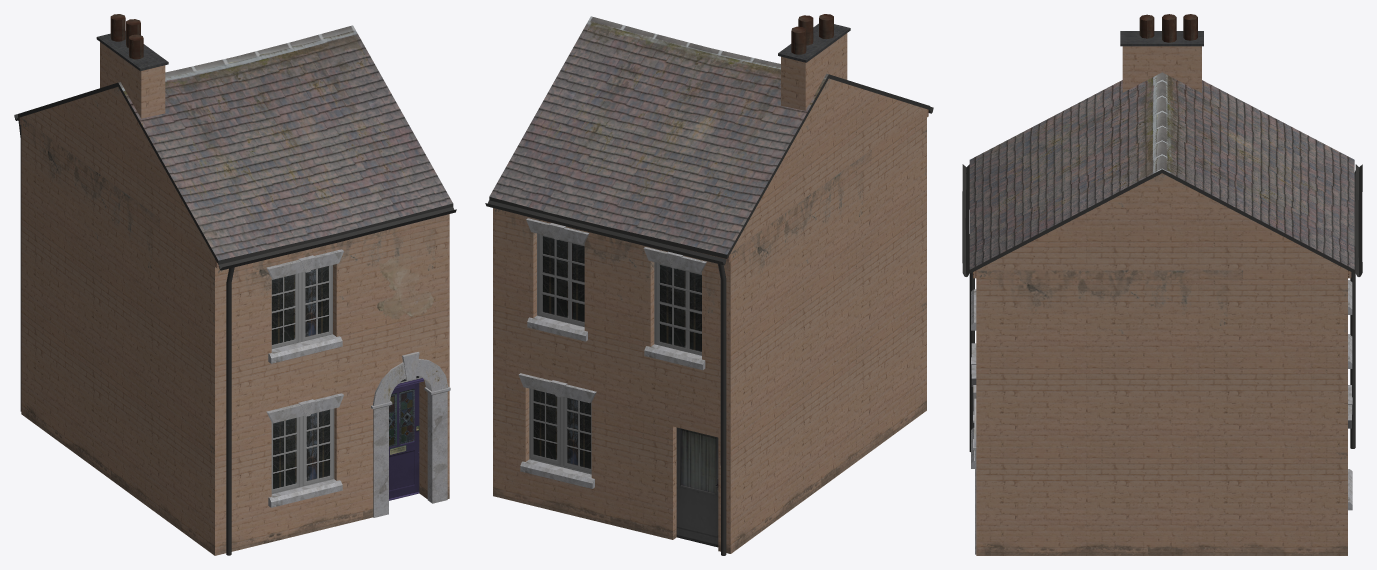
The model's file is ukterracedvictorian7b.FBX.
The picture shows the model from 3 angles, left to right: view 1: azimuth 30°, elevation 25°; view 2: azimuth 150°, elevation 25°; view 3: azimuth 270°, elevation 25°; orthographic projection. The views are drawn at different scales.
Parts seen in each view (by area): view 1: Object003; view 2: Object003; view 3: Object003.
Boxes of the visible parts, x1,y1,x2,y2 form: Object003: [14, 14, 456, 555]; Object003: [485, 14, 933, 555]; Object003: [962, 14, 1362, 555].
Size of the model in its own units: 560 by 1040 by 862.
